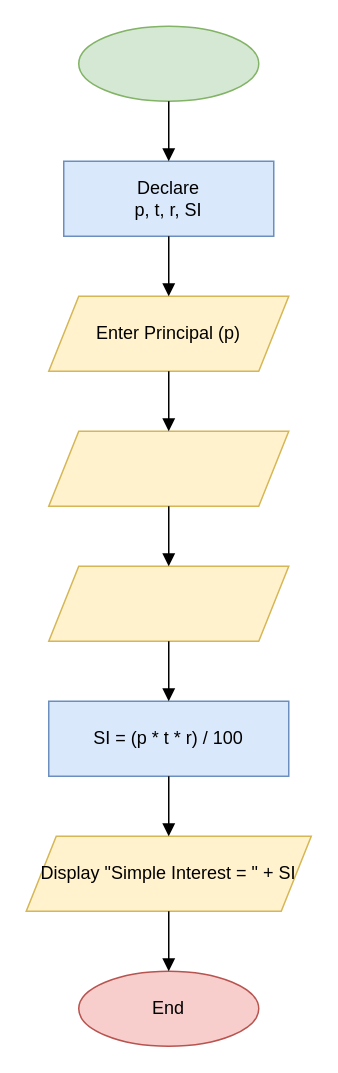
This 338x1073 diagram has some shape labels left out. Here are the shapes that lost their labels. From the top down, the centre of each, then its label:
(x=168, y=63): Start
(x=168, y=468): Enter Time (t)
(x=168, y=603): Enter Rate (r)
